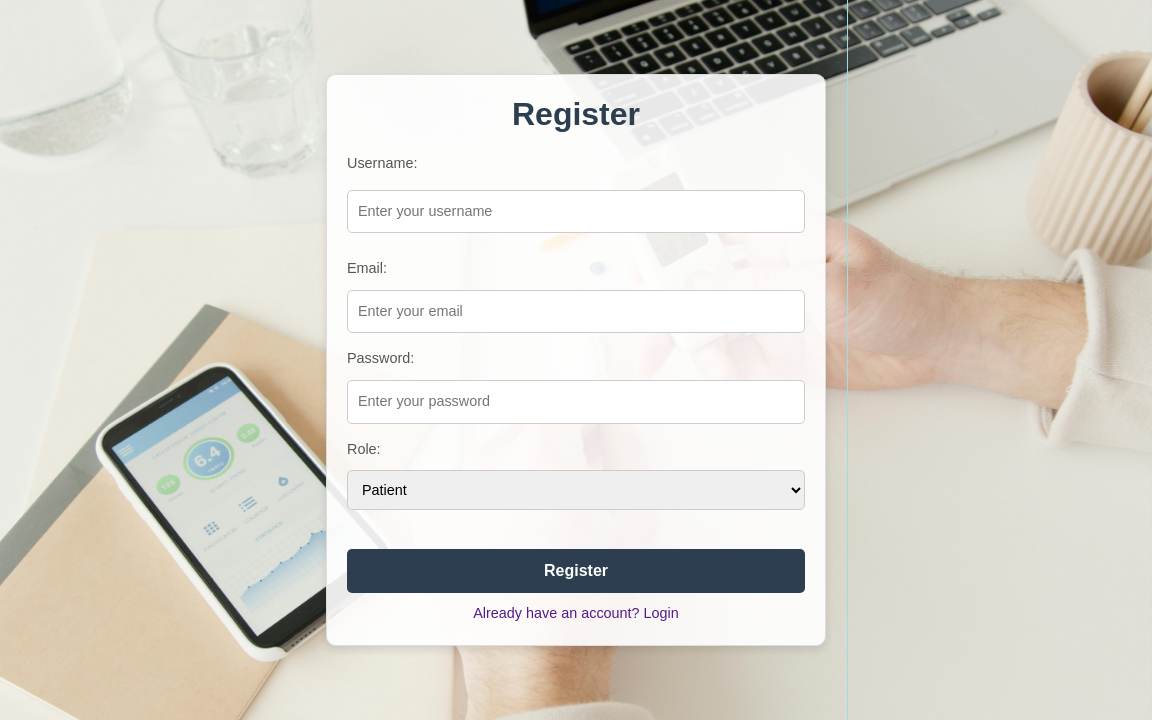
Test case: Register Component › should show error messages for empty fields
Click the button "Register": (576, 571) [347,549,805,593]
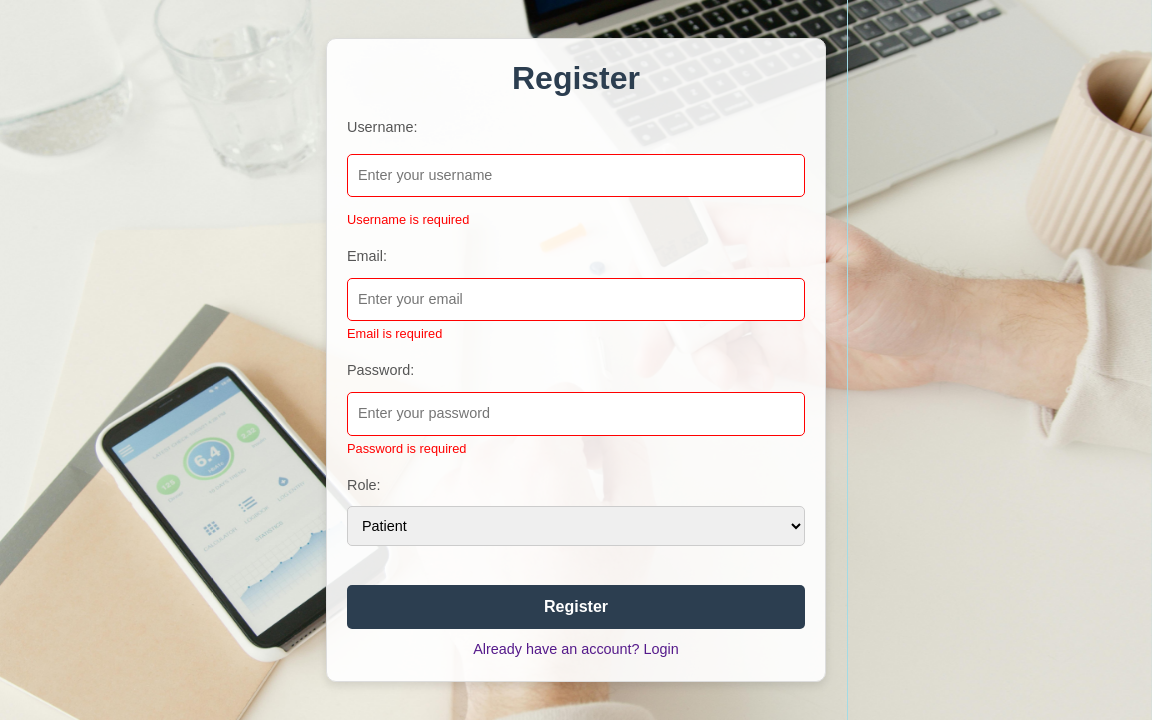
Check: the text "Username is required" is shown, box [347,212,469,227]
Check: the text "Email is required" is shown, box [347,326,442,342]
Check: the text "Password is required" is shown, box [347,441,466,456]
